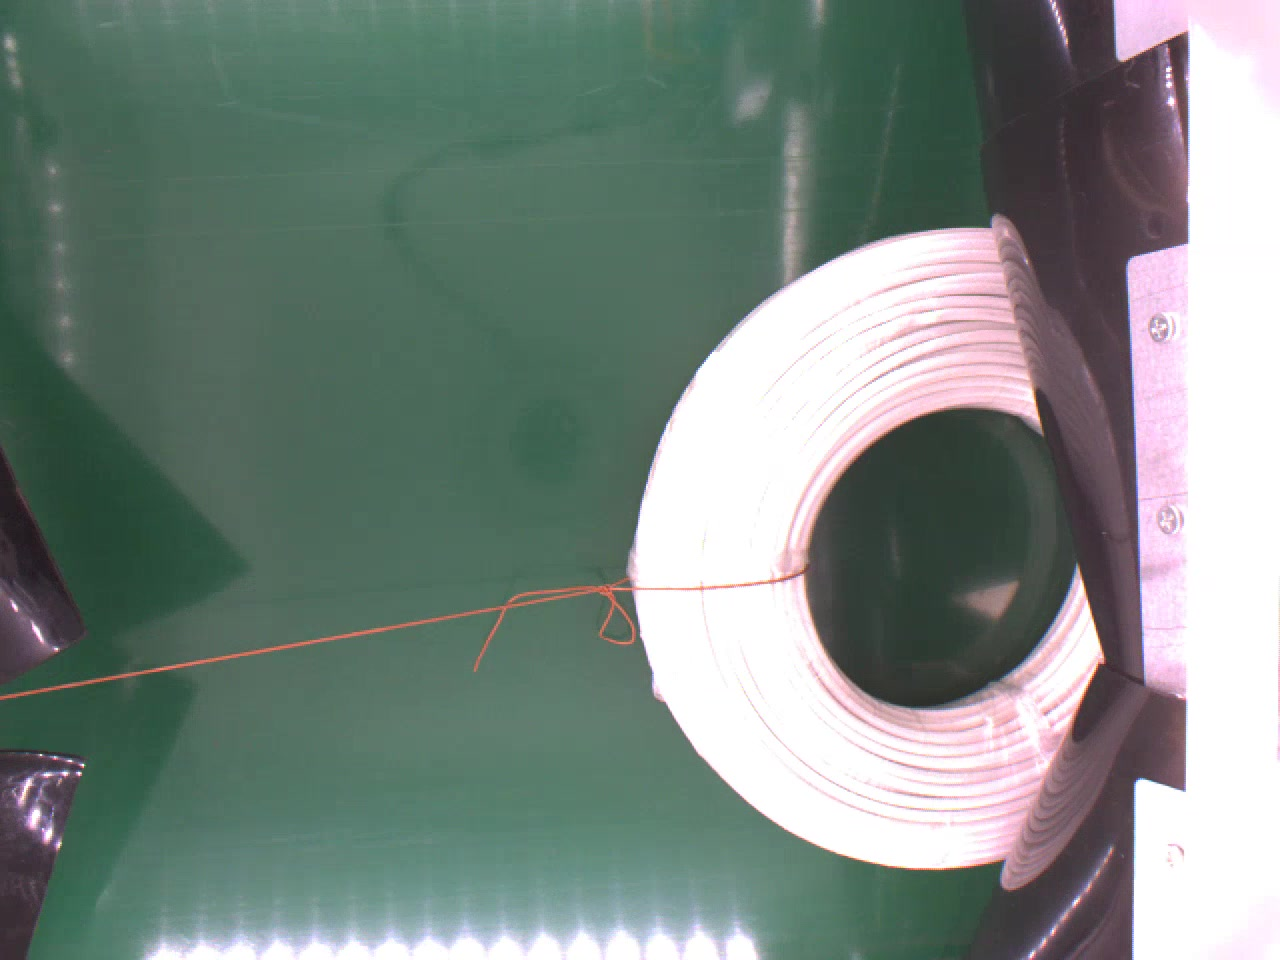white: (626, 225, 1105, 871)
